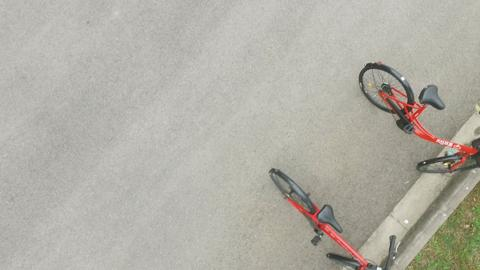bike: (346, 64, 474, 186), (252, 158, 390, 270)
